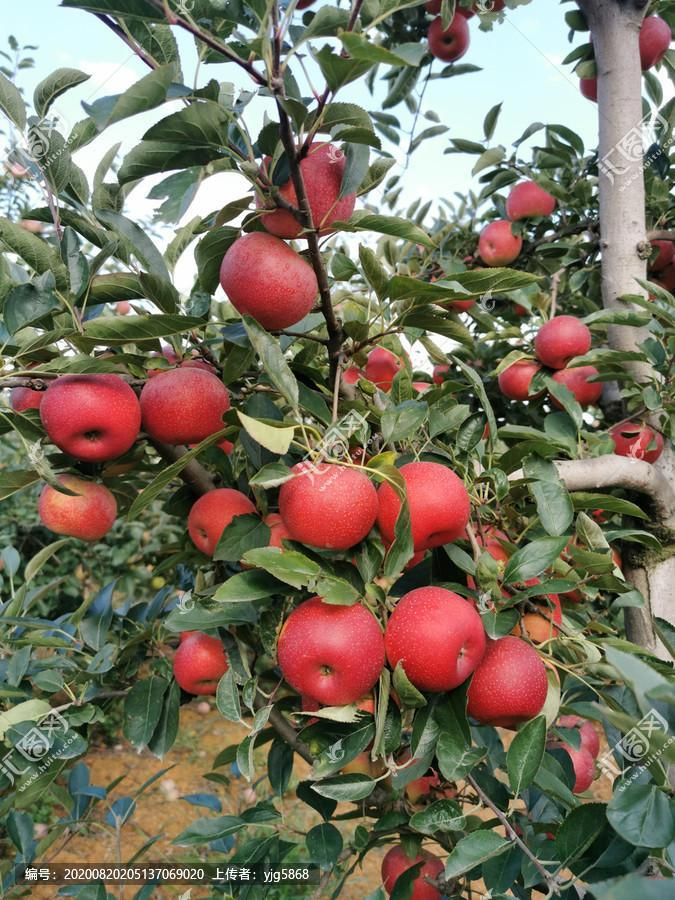apple: (275, 600, 386, 709), (382, 585, 485, 694), (280, 599, 381, 706), (221, 233, 319, 331), (277, 463, 377, 550), (41, 376, 140, 456), (462, 635, 549, 724), (144, 365, 228, 445), (397, 460, 468, 551), (188, 487, 258, 561), (35, 479, 114, 541), (173, 631, 227, 697), (474, 218, 523, 268)
